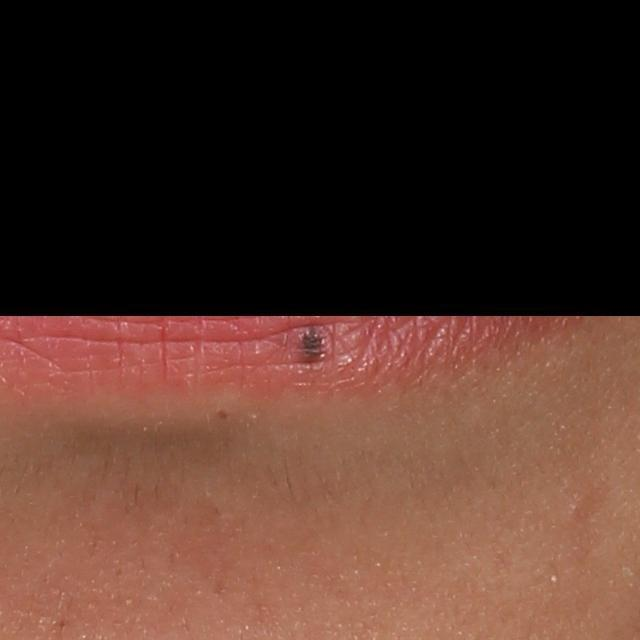nevus: (300, 327, 323, 363)
